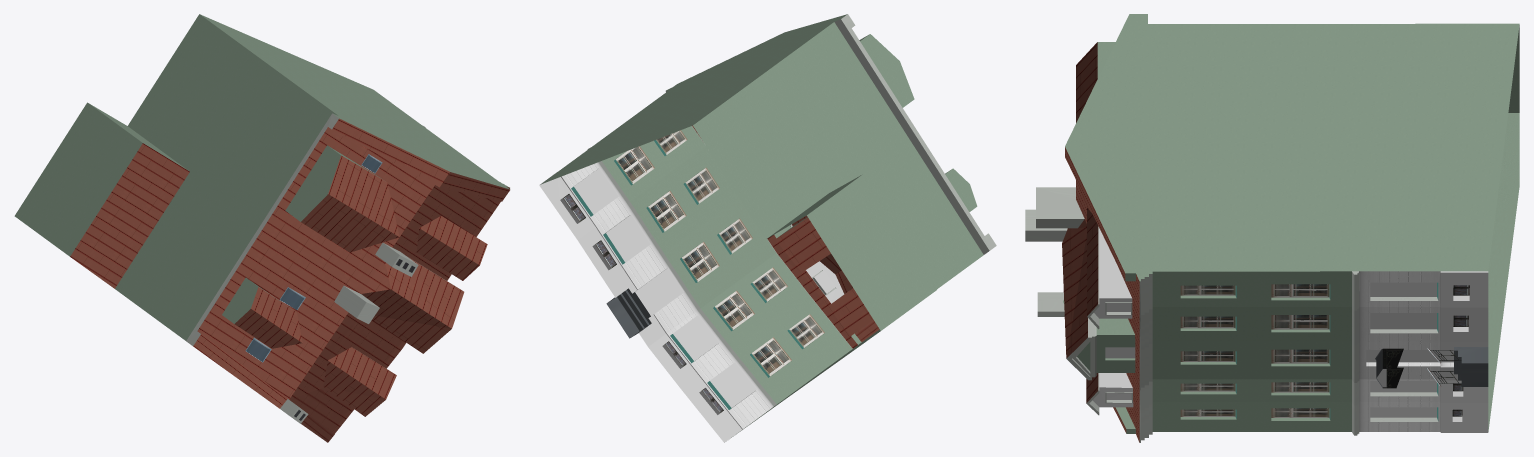
File: Myyrivahe_23a.obj
The picture shows the model from 3 angles, left to right: view 1: azimuth 30°, elevation 25°; view 2: azimuth 150°, elevation 25°; view 3: azimuth 270°, elevation 25°; orthographic projection. The views are drawn at different scales.
Parts seen in each view (by area): view 1: Myyrivahe23A; view 2: Myyrivahe23A; view 3: Myyrivahe23A.
Boxes of the visible parts, x1,y1,x2,y2 form: Myyrivahe23A: (14,14,510,442); Myyrivahe23A: (539,14,996,442); Myyrivahe23A: (1025,14,1519,442).
Bounding box in the file's own units: 21.05 × 18.5 × 19.1.
